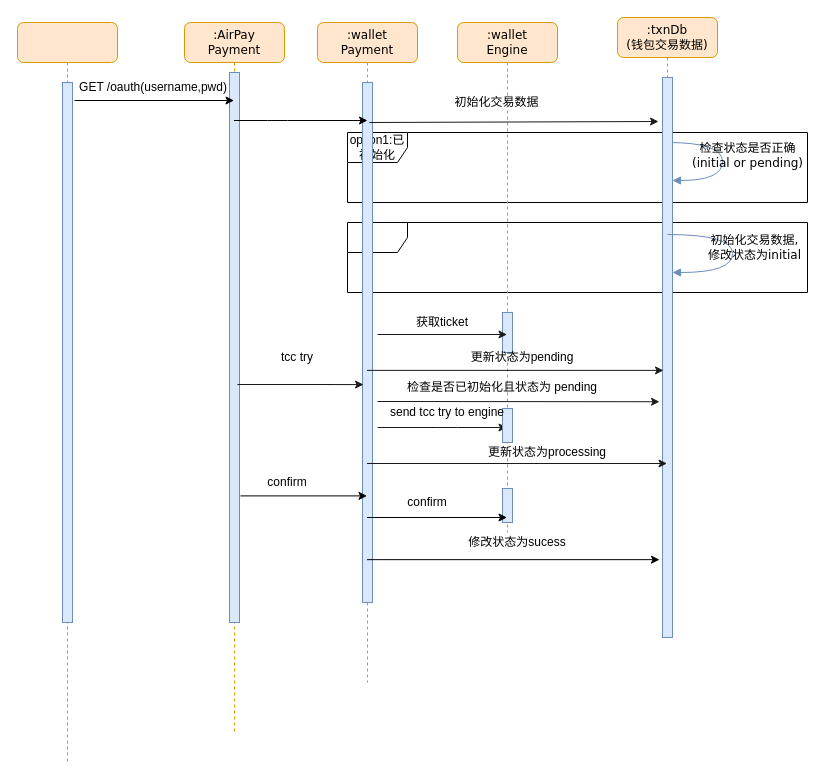
Some shapes in this 825 by 780 pixel diagram are drawn without their labels. The box of each missing label's shape, as (x1, y1, x2, y2) in pixels:
:AirPay App: (16, 22, 118, 762)
option2:未初始化: (346, 222, 808, 292)
